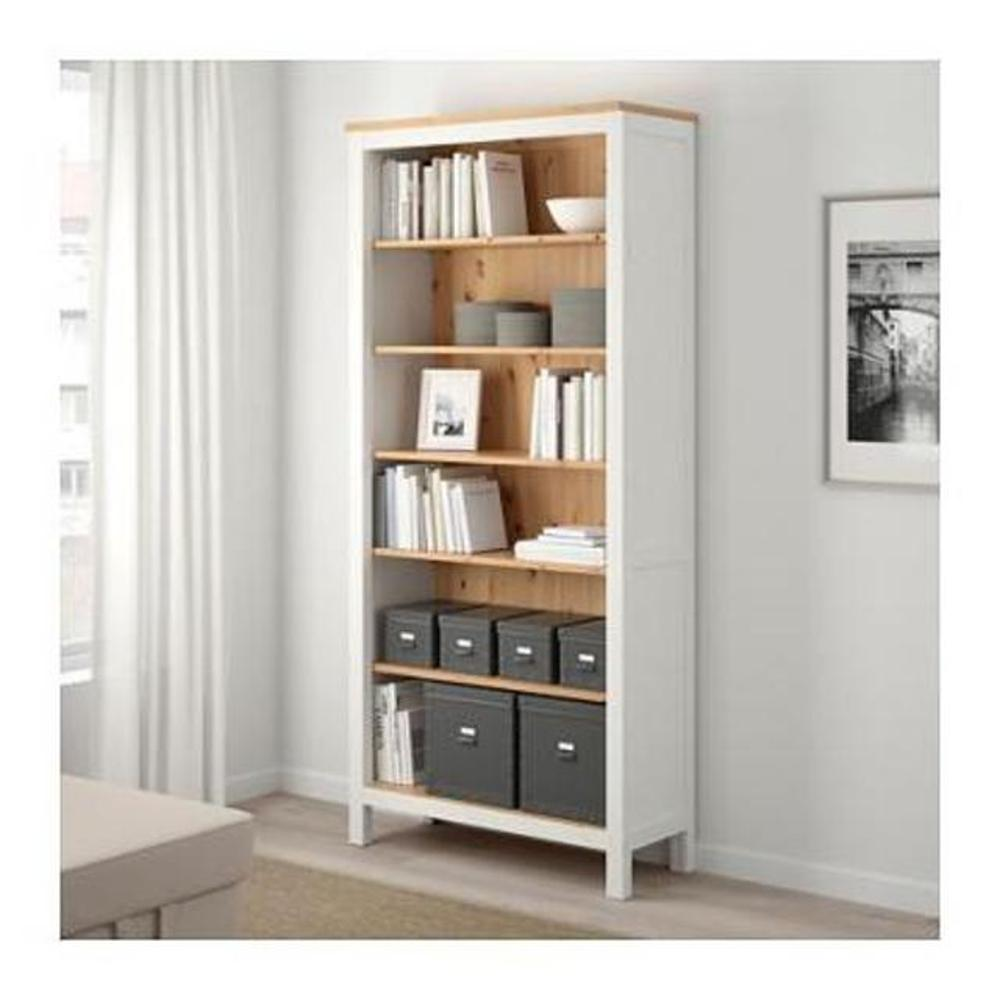lamp: (344, 97, 701, 906)
